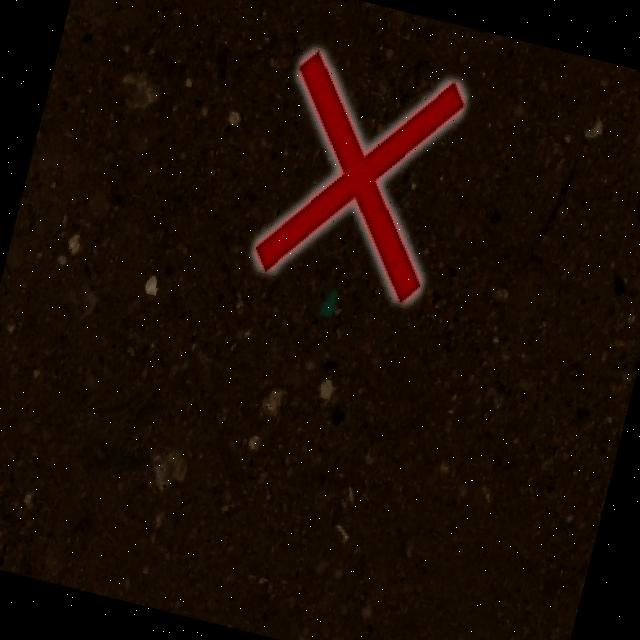x_marker: (251, 45, 468, 304)
